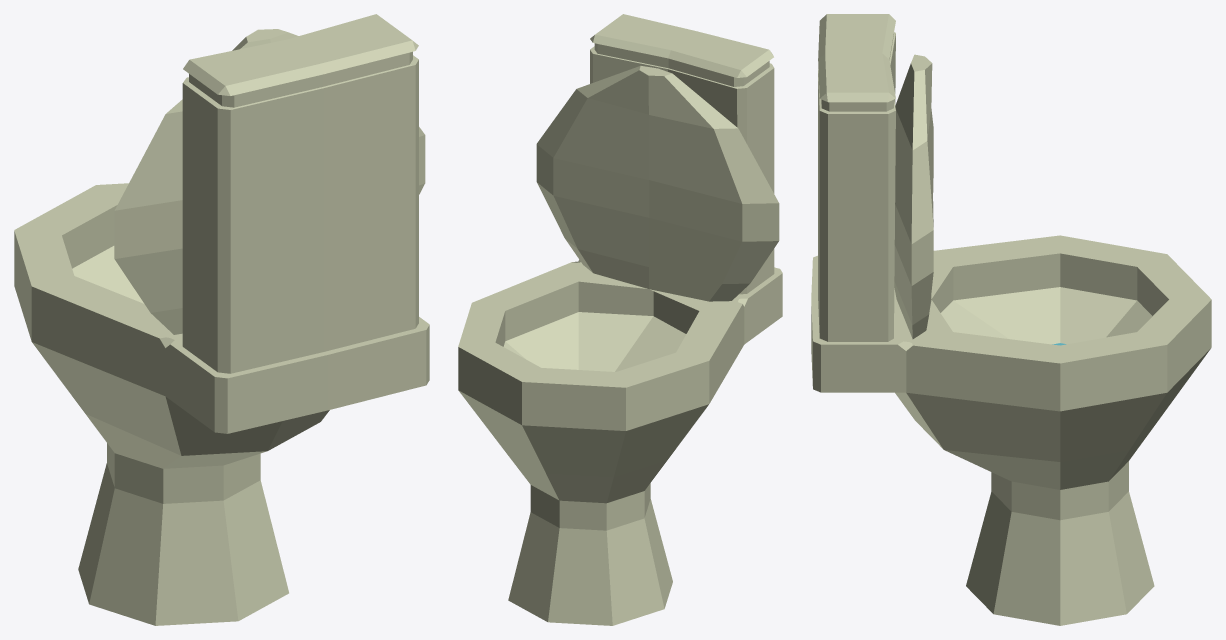
The picture shows the model from 3 angles, left to right: view 1: azimuth 30°, elevation 25°; view 2: azimuth 150°, elevation 25°; view 3: azimuth 270°, elevation 25°; orthographic projection. The views are drawn at different scales.
Parts seen in each view (by area): view 1: WC; view 2: WC; view 3: WC.
Part boxes in pixels (bbox=[...]): WC: bbox=[14, 14, 429, 625]; WC: bbox=[458, 14, 782, 625]; WC: bbox=[811, 14, 1211, 625].
Size of the model in its own units: 0.3963 by 0.7521 by 0.5125.
